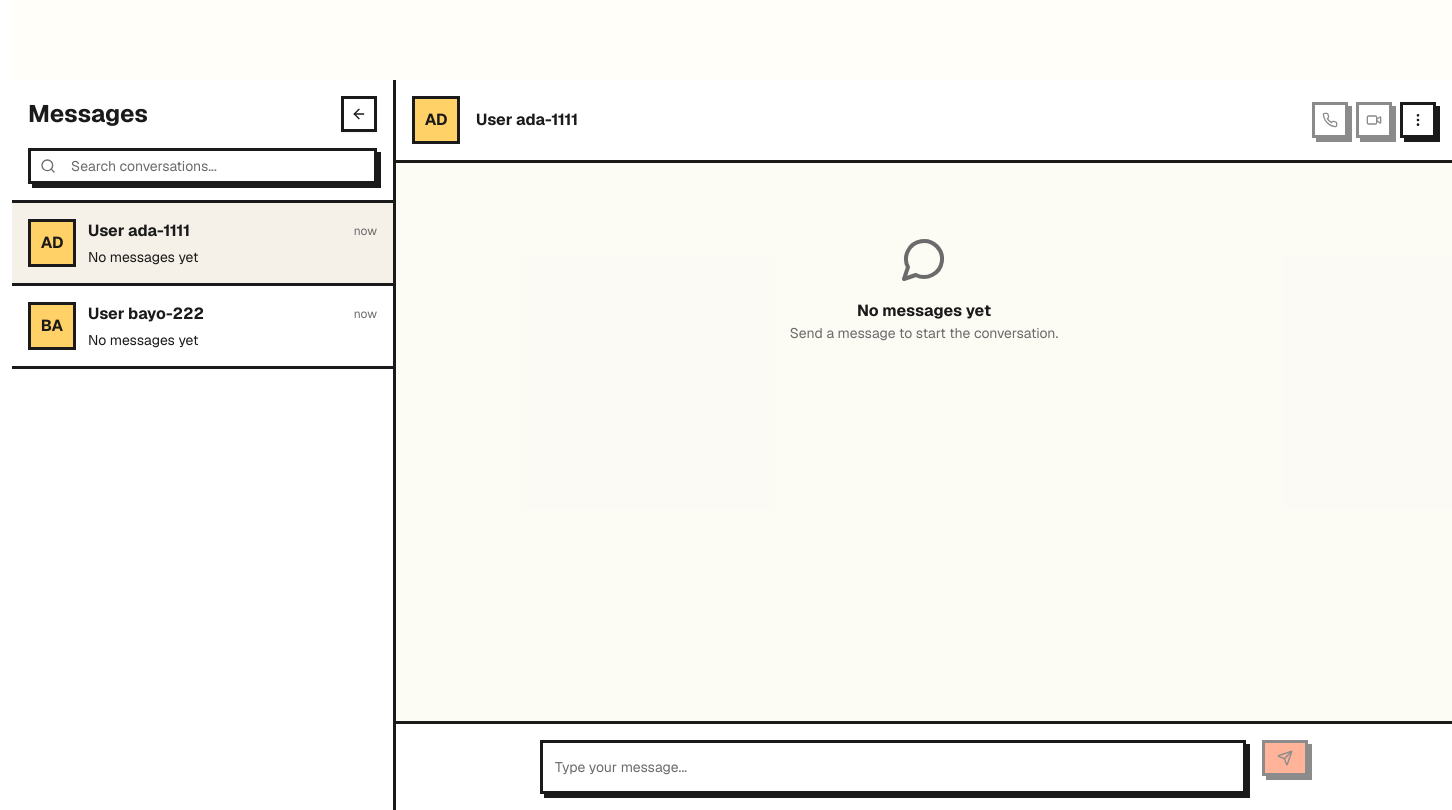
Test: MessagesPage › preserves draft text when switching between conversations
Expected: the 1st heading "User ada-1111" is shown, x1=476 y1=108 x2=578 y2=132
In the field with placeholder "Type your message...": coordinates (893, 767) x1=540 y1=740 x2=1246 y2=794, type "Draft for Ada"
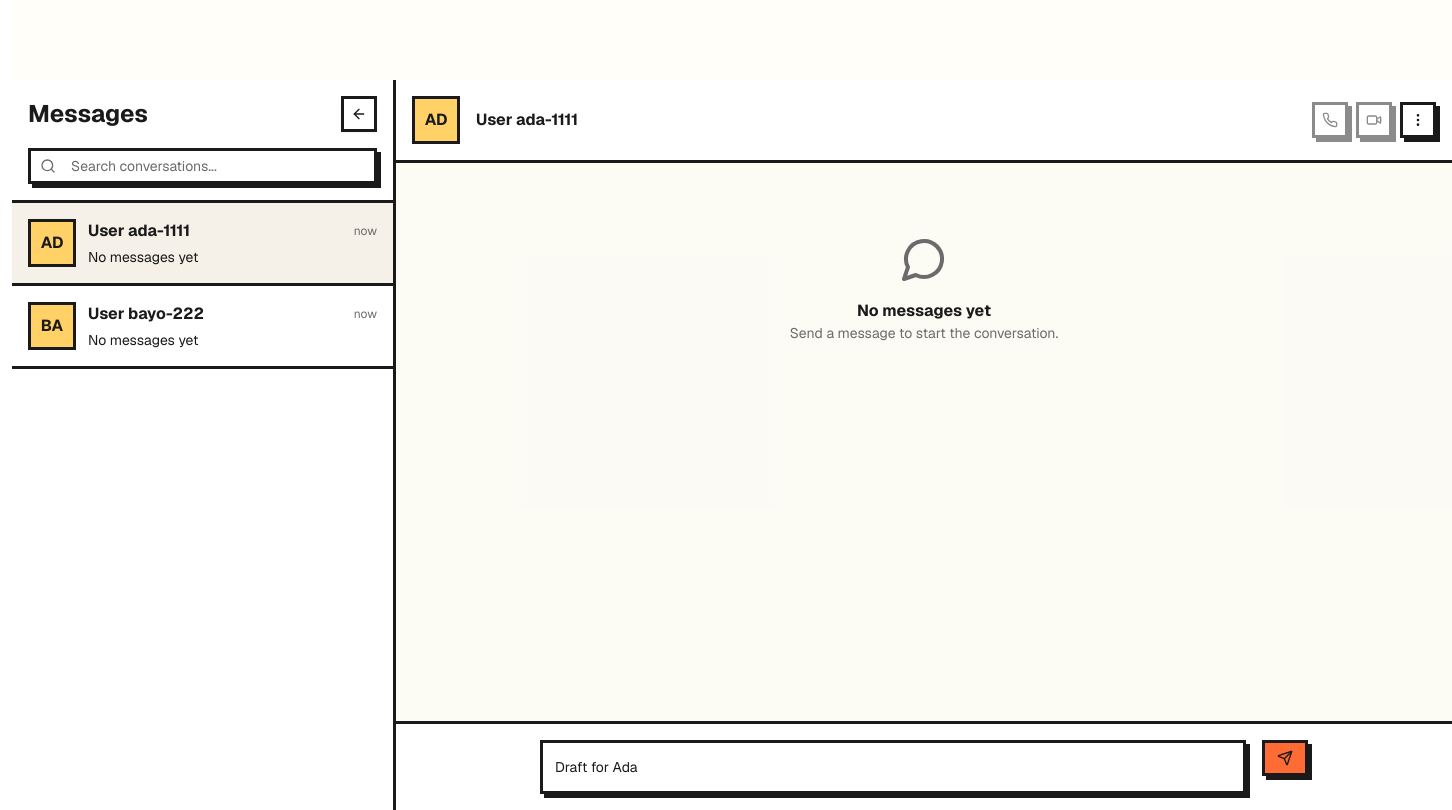
Click the button with aria-label "Select conversation with User bayo-222": coordinates (52, 326) x1=12 y1=286 x2=393 y2=369
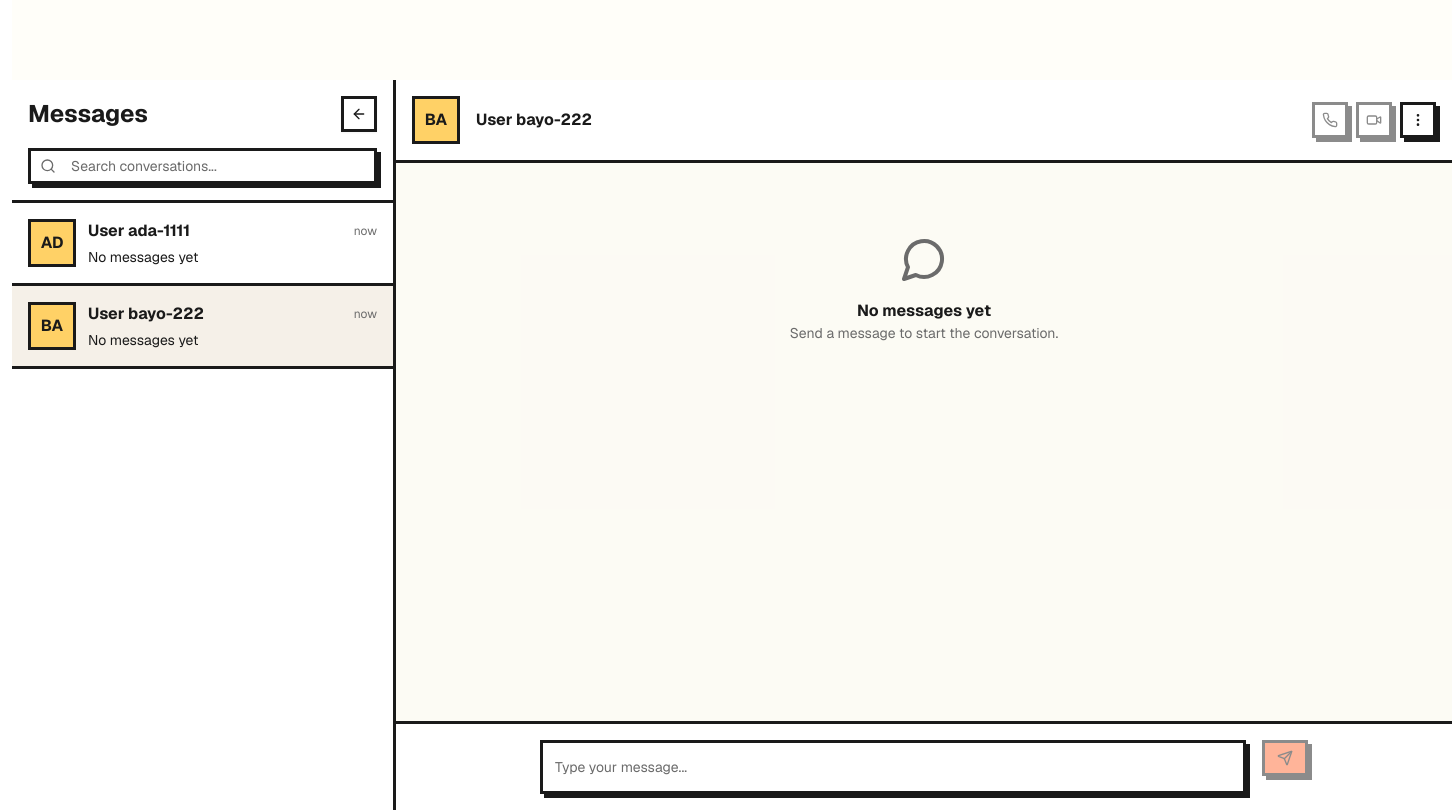
Expected: the 1st heading "User bayo-222" is shown, x1=476 y1=108 x2=592 y2=132
Expected: the field with placeholder "Type your message..." is empty
In the field with placeholder "Type your message...": coordinates (893, 767) x1=540 y1=740 x2=1246 y2=794, type "Draft for Bayo"
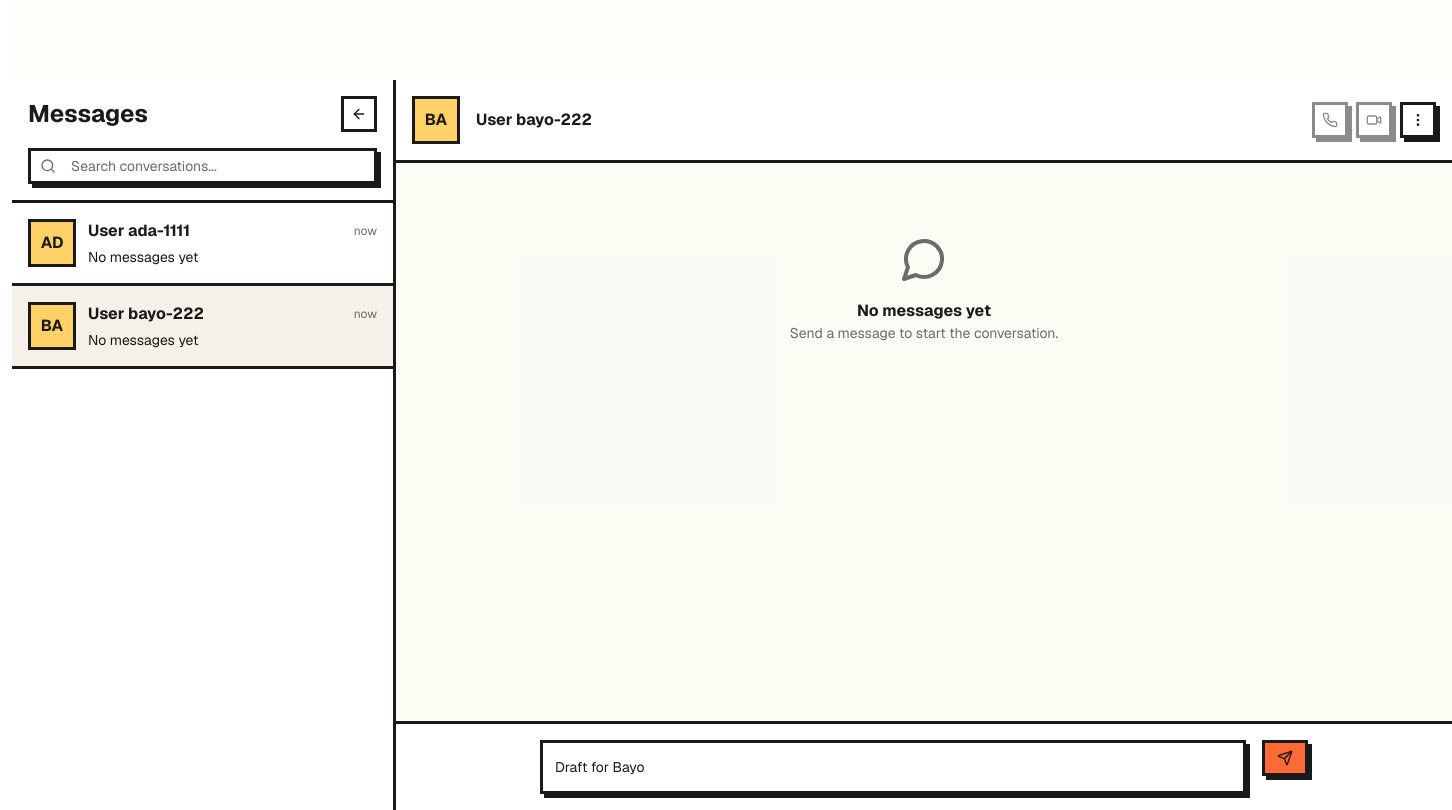
Click the button with aria-label "Select conversation with User ada-1111": coordinates (52, 243) x1=12 y1=203 x2=393 y2=286
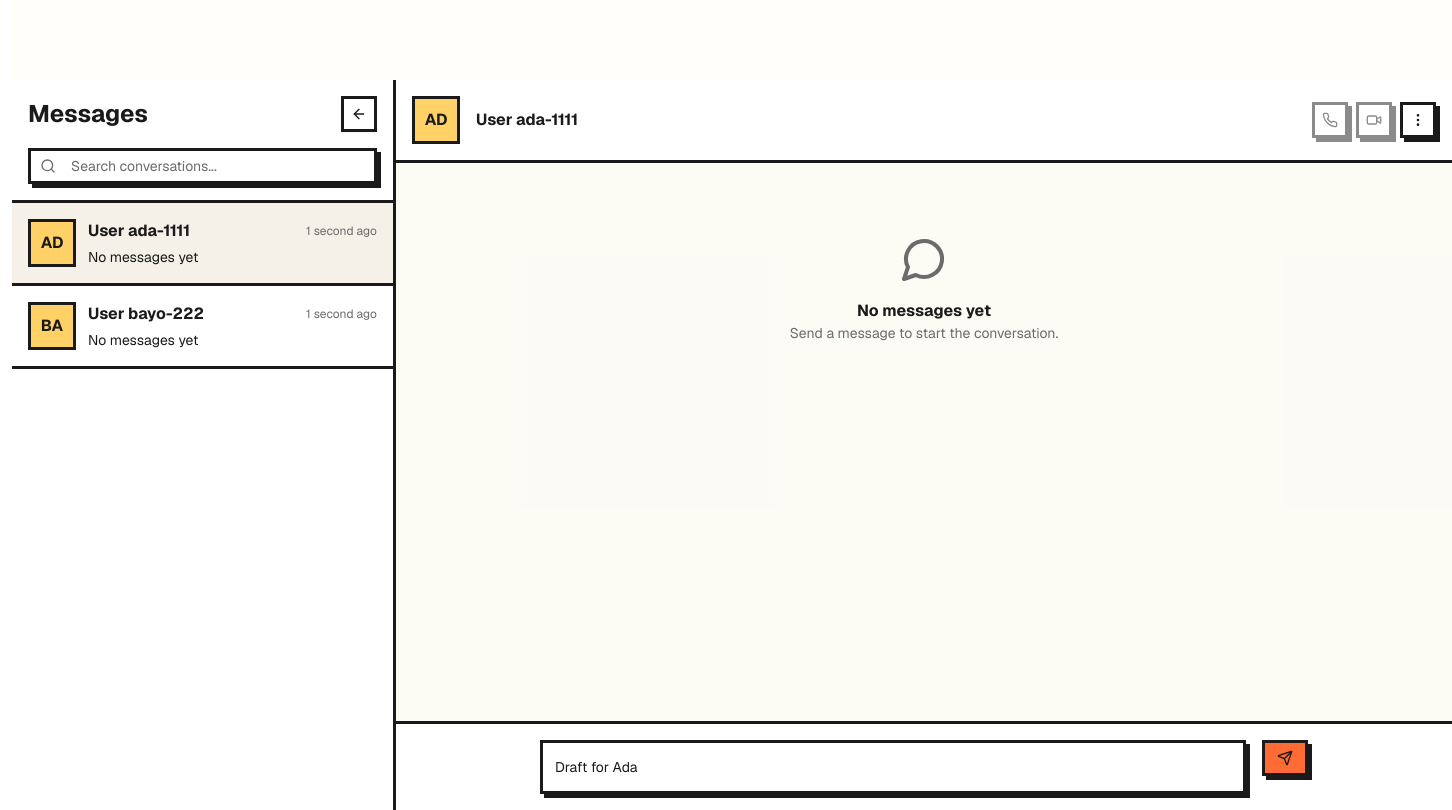
Expected: the 1st heading "User ada-1111" is shown, x1=476 y1=108 x2=578 y2=132
